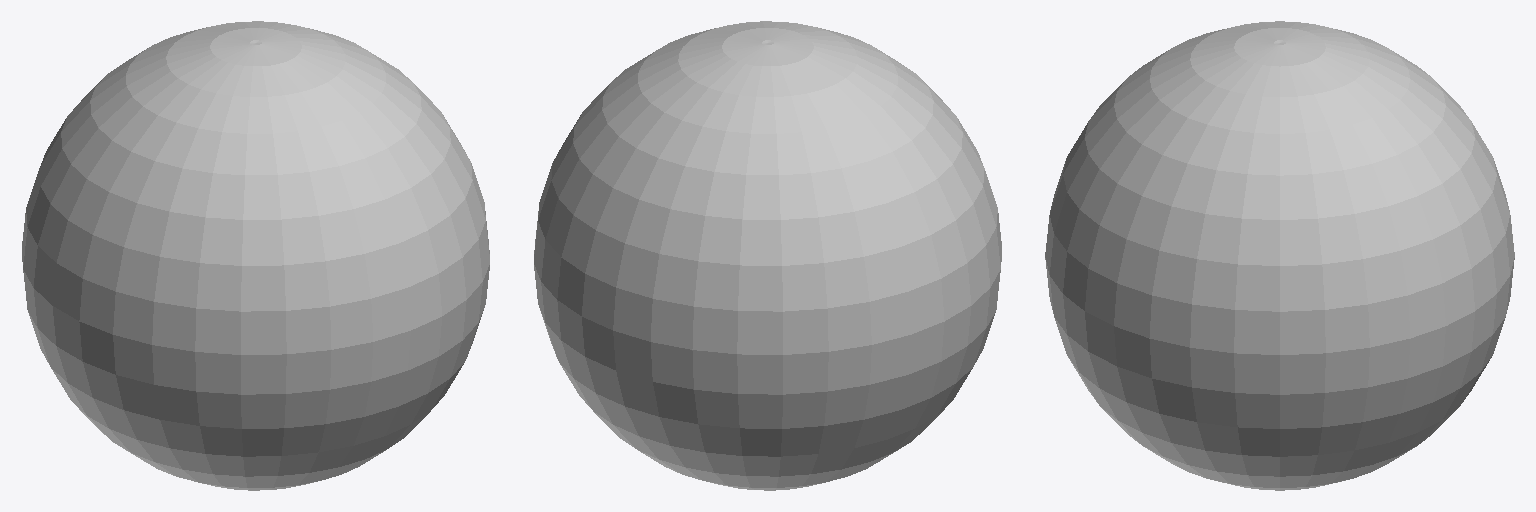
Rendered from small.obj.
The picture shows the model from 3 angles: view 1: azimuth 30°, elevation 25°; view 2: azimuth 150°, elevation 25°; view 3: azimuth 270°, elevation 25°; orthographic projection.
Visible parts, largest first — view 1: Sphere.001; view 2: Sphere.001; view 3: Sphere.001.
Part boxes in pixels (bbox=[...]): Sphere.001: bbox=[22, 21, 489, 490]; Sphere.001: bbox=[534, 21, 1001, 490]; Sphere.001: bbox=[1045, 21, 1514, 490].
Bounding box in the file's own units: 0.9779 × 0.98 × 0.9779.